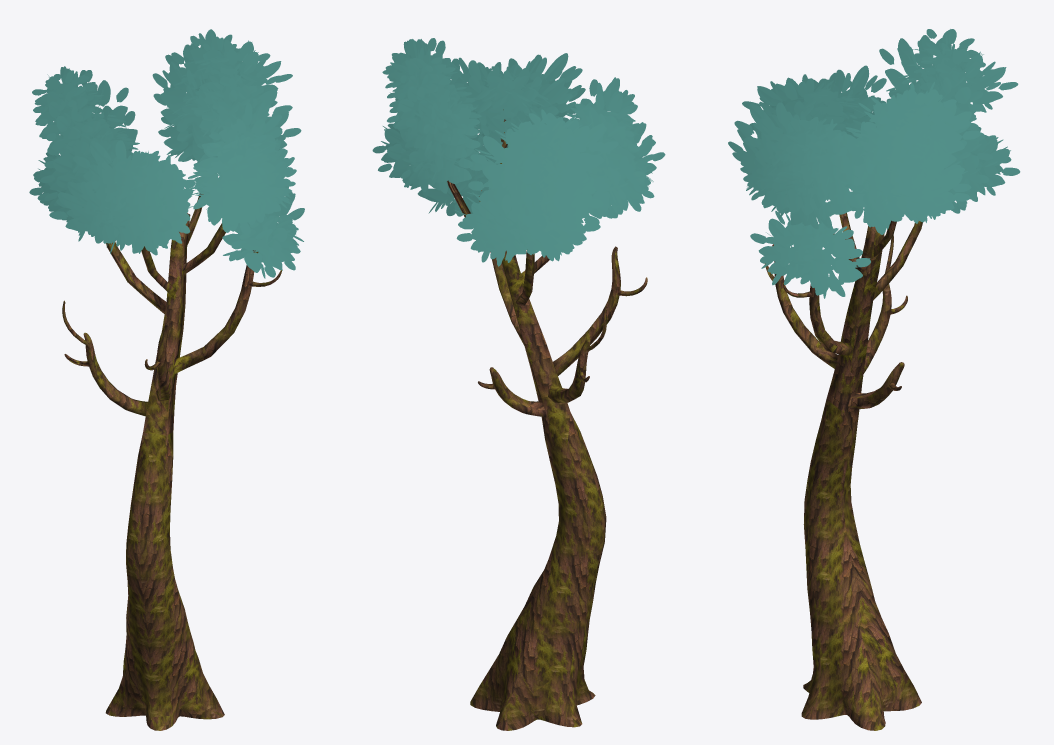
File: gtree_common_4.glb
3 renders of one model, left to right at view 1: azimuth 30°, elevation 25°; view 2: azimuth 150°, elevation 25°; view 3: azimuth 270°, elevation 25°, orthographic. The views are drawn at different scales.
Parts seen in each view (by area): view 1: model; view 2: model; view 3: model.
Boxes of the visible parts, x1,y1,x2,y2 form: model: [29, 29, 304, 730]; model: [372, 38, 665, 730]; model: [728, 29, 1020, 730].
Bounding box in the file's own units: 3.27 × 7.22 × 3.21.
Materials: 2 (2 with a texture image).
